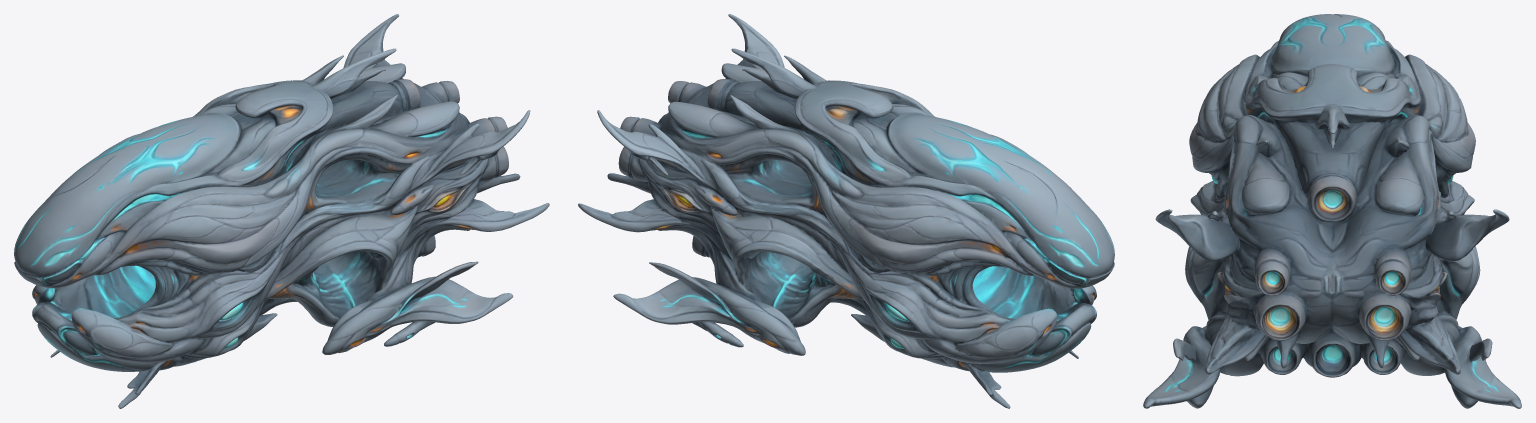
File: Alien carrier ship.glb
The picture shows the model from 3 angles, left to right: view 1: azimuth 30°, elevation 25°; view 2: azimuth 150°, elevation 25°; view 3: azimuth 270°, elevation 25°; orthographic projection. The views are drawn at different scales.
Visible parts, largest first — view 1: tripo_node_e25715d0-04b3-446e-a578-b6bff4f752bf; view 2: tripo_node_e25715d0-04b3-446e-a578-b6bff4f752bf; view 3: tripo_node_e25715d0-04b3-446e-a578-b6bff4f752bf.
Boxes of the visible parts, <box> form: tripo_node_e25715d0-04b3-446e-a578-b6bff4f752bf: <box>14,14,549,408</box>; tripo_node_e25715d0-04b3-446e-a578-b6bff4f752bf: <box>578,14,1114,408</box>; tripo_node_e25715d0-04b3-446e-a578-b6bff4f752bf: <box>1143,14,1521,408</box>.
Bounding box in the file's own units: 1 × 0.5192 × 0.5504.
Materials: 1 (1 with a texture image).
